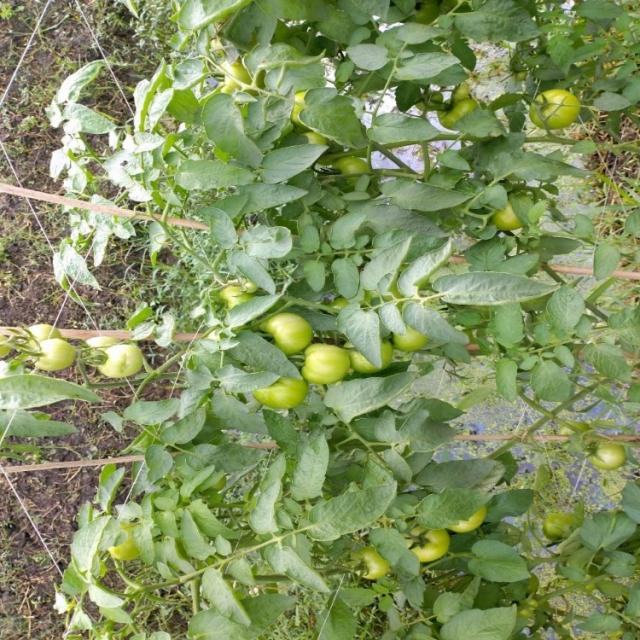tomato: (88, 336, 150, 385), (399, 520, 454, 565), (534, 87, 583, 136), (339, 539, 386, 587), (266, 305, 315, 351), (250, 376, 300, 413), (305, 347, 347, 390), (28, 338, 76, 374), (435, 82, 474, 126), (586, 437, 631, 469), (211, 63, 252, 97), (494, 194, 527, 232), (454, 510, 487, 541), (394, 331, 434, 355), (219, 280, 253, 308), (339, 155, 373, 174), (23, 324, 57, 342)
